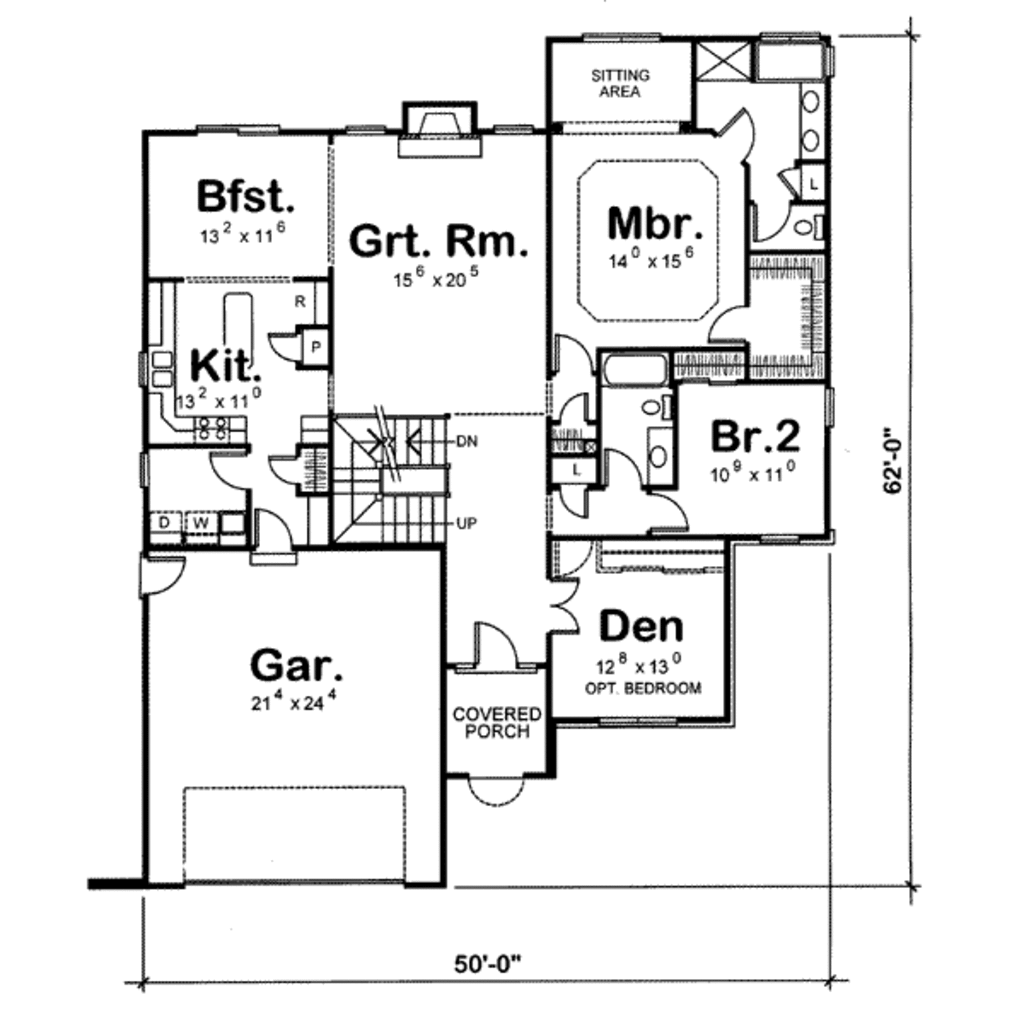door: (244, 505, 302, 575), (464, 617, 520, 677), (544, 580, 592, 649), (266, 327, 338, 371), (708, 103, 759, 164), (136, 549, 194, 600), (641, 491, 700, 535), (208, 441, 252, 497), (542, 328, 595, 374), (744, 197, 798, 241), (703, 303, 753, 349), (603, 439, 645, 492), (264, 449, 308, 494), (555, 478, 595, 522), (547, 391, 594, 427)
kitchen_bar: (200, 291, 258, 382)
large_sink: (630, 385, 681, 419), (783, 217, 830, 247)
small_sink: (797, 78, 828, 171)
stairs: (331, 405, 467, 546)
tub: (600, 355, 675, 383)
twin_sink: (148, 353, 188, 407)
window: (598, 707, 691, 733), (573, 27, 663, 47)
